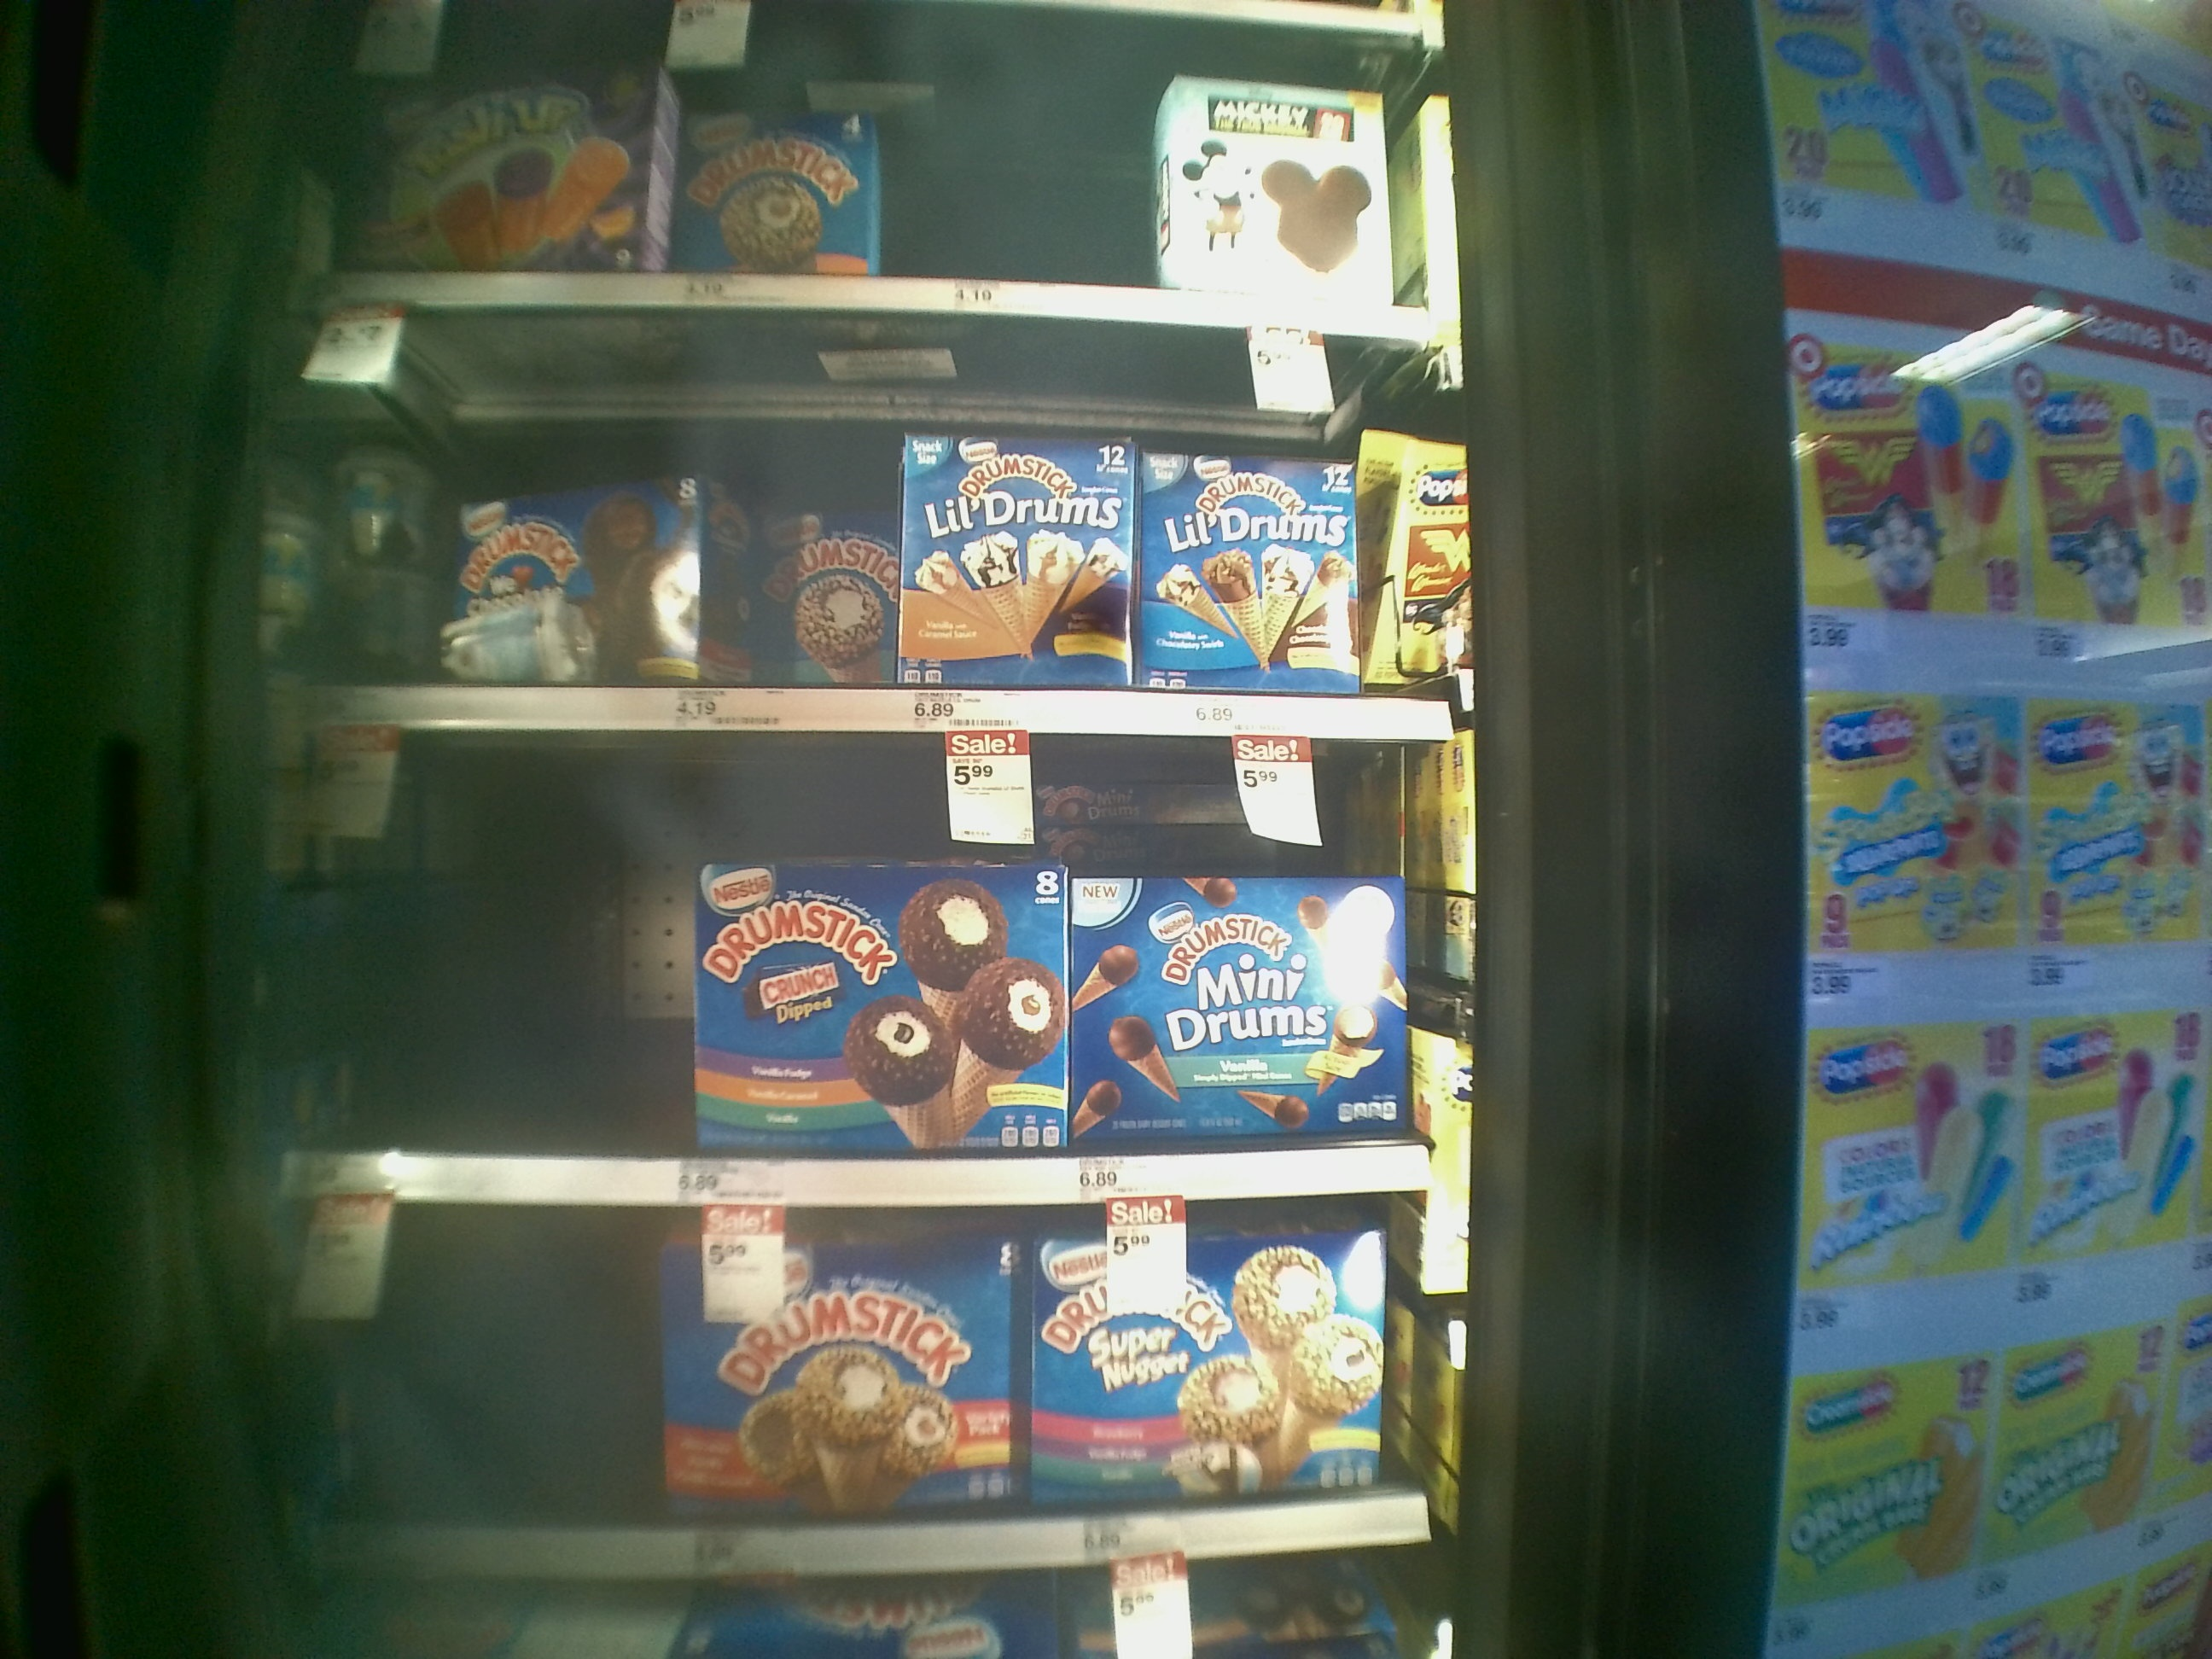ice-cream-shelf: (273, 734, 1418, 1201), (301, 307, 1440, 742), (270, 1208, 1447, 1570)
